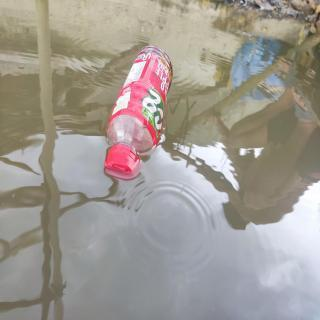bottle: (108, 41, 182, 182)
